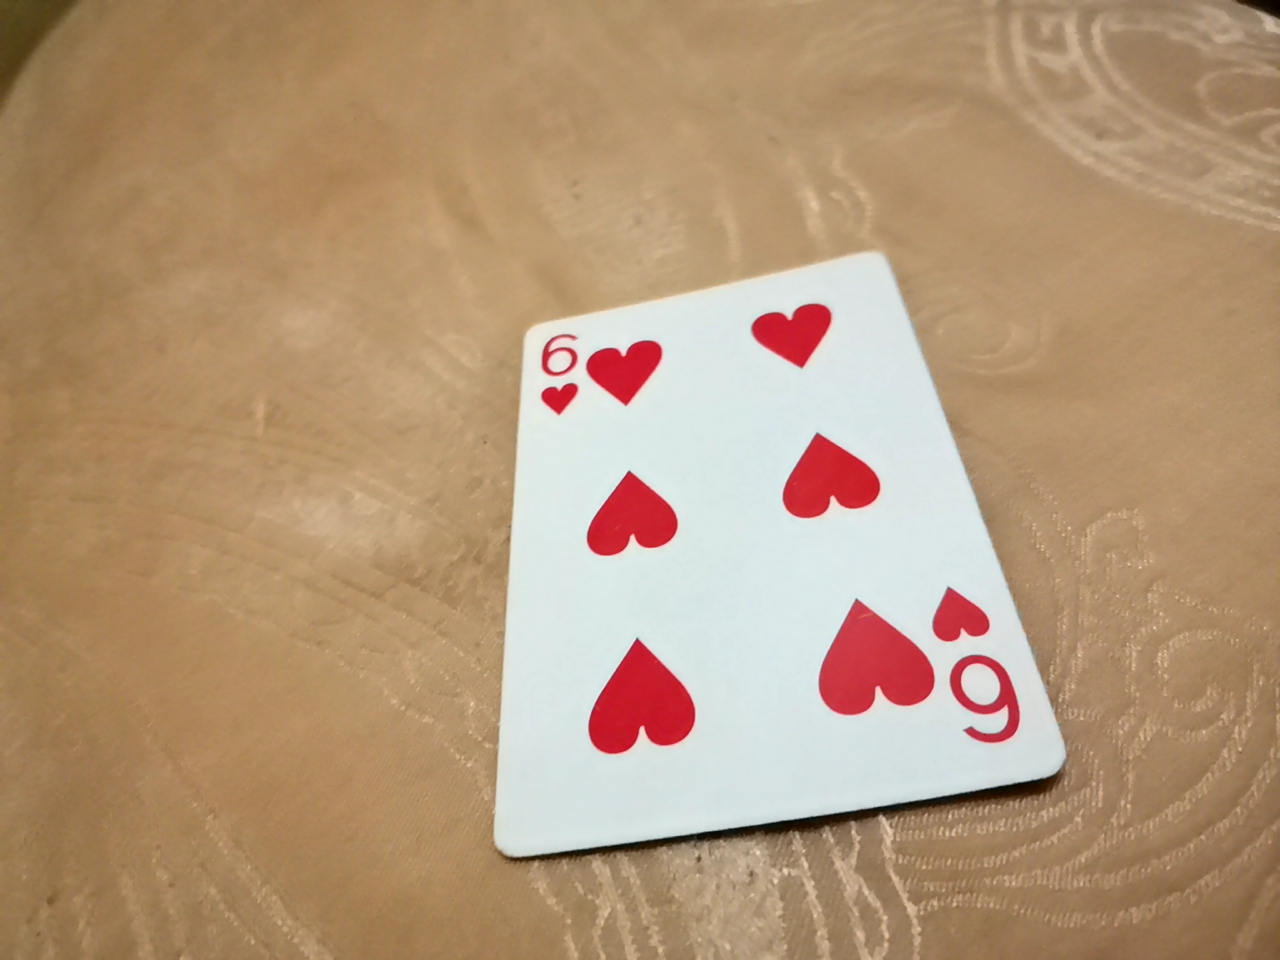hx 6: (503, 238, 1070, 848)
